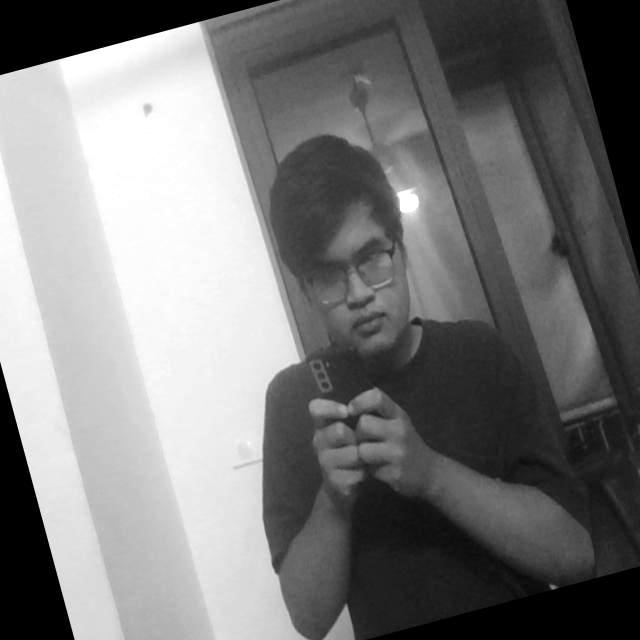phone: (298, 331, 399, 475)
